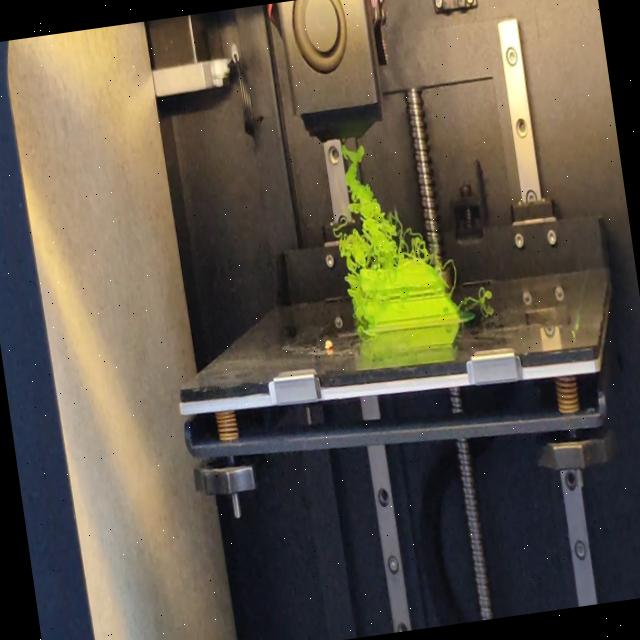spaghetti: (328, 139, 433, 284), (343, 286, 370, 341), (460, 286, 498, 311), (439, 250, 460, 294)
